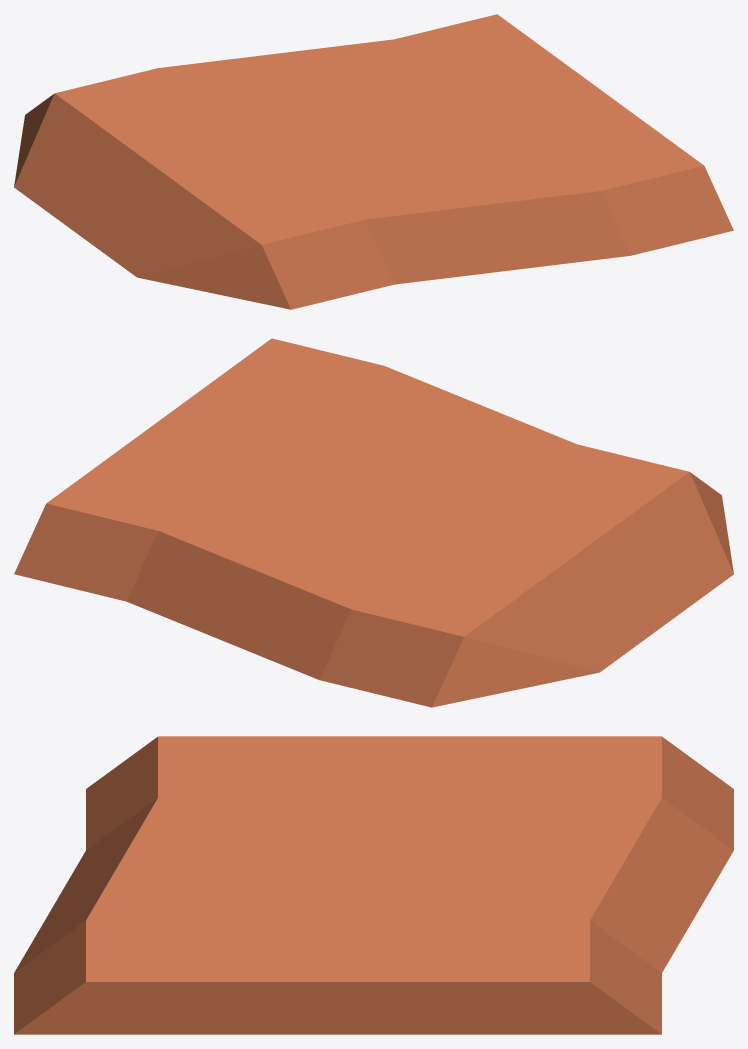
The model's file is crops_dirtRowEnd.dae.
The picture shows the model from 3 angles, top to bottom: view 1: azimuth 30°, elevation 25°; view 2: azimuth 150°, elevation 25°; view 3: azimuth 270°, elevation 25°; orthographic projection. The views are drawn at different scales.
Parts seen in each view (by area): view 1: crops_dirtRowEnd; view 2: crops_dirtRowEnd; view 3: crops_dirtRowEnd.
Boxes of the visible parts, box(x1,y1,x2,y2) form: crops_dirtRowEnd: box(14, 14, 733, 309); crops_dirtRowEnd: box(14, 338, 733, 707); crops_dirtRowEnd: box(14, 736, 733, 1034).
Size of the model in its own units: 0.6 by 0.05 by 0.62.
